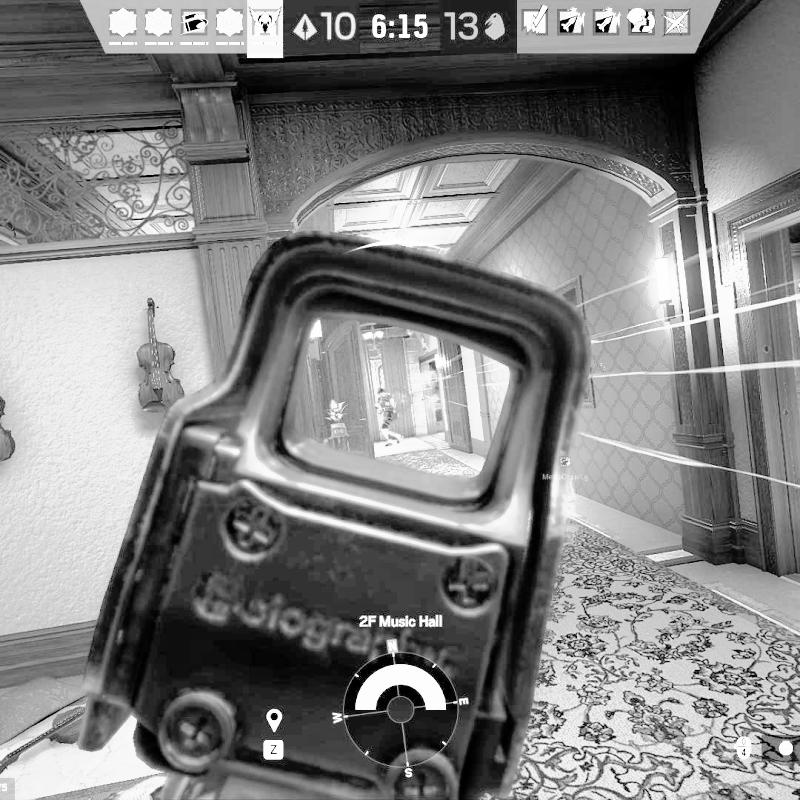Character: (374, 385, 406, 448)
Friend_label: (542, 454, 592, 481)
Head: (377, 387, 387, 396)
